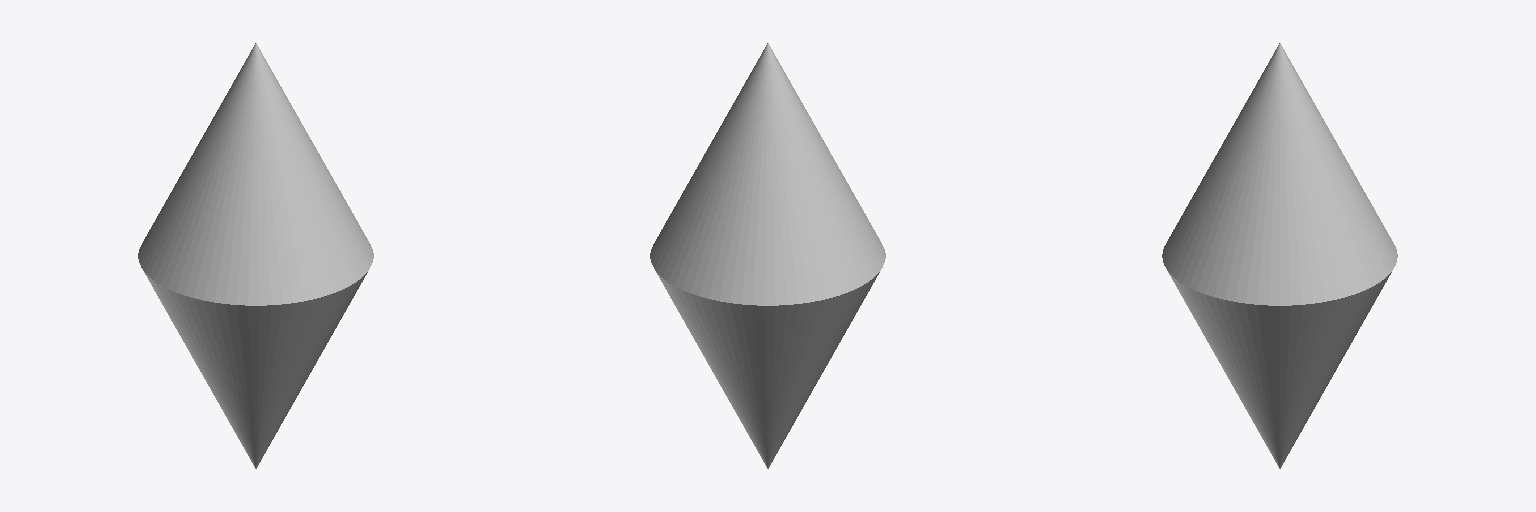
The model's file is laser_crystal.obj.
The picture shows the model from 3 angles: view 1: azimuth 30°, elevation 25°; view 2: azimuth 150°, elevation 25°; view 3: azimuth 270°, elevation 25°; orthographic projection.
Visible parts, largest first — view 1: Cone; view 2: Cone; view 3: Cone.
Boxes of the visible parts, <box> form: Cone: <box>138,43,373,468</box>; Cone: <box>650,43,885,468</box>; Cone: <box>1162,43,1397,468</box>.
Size of the model in its own units: 0.5 by 1 by 0.5.